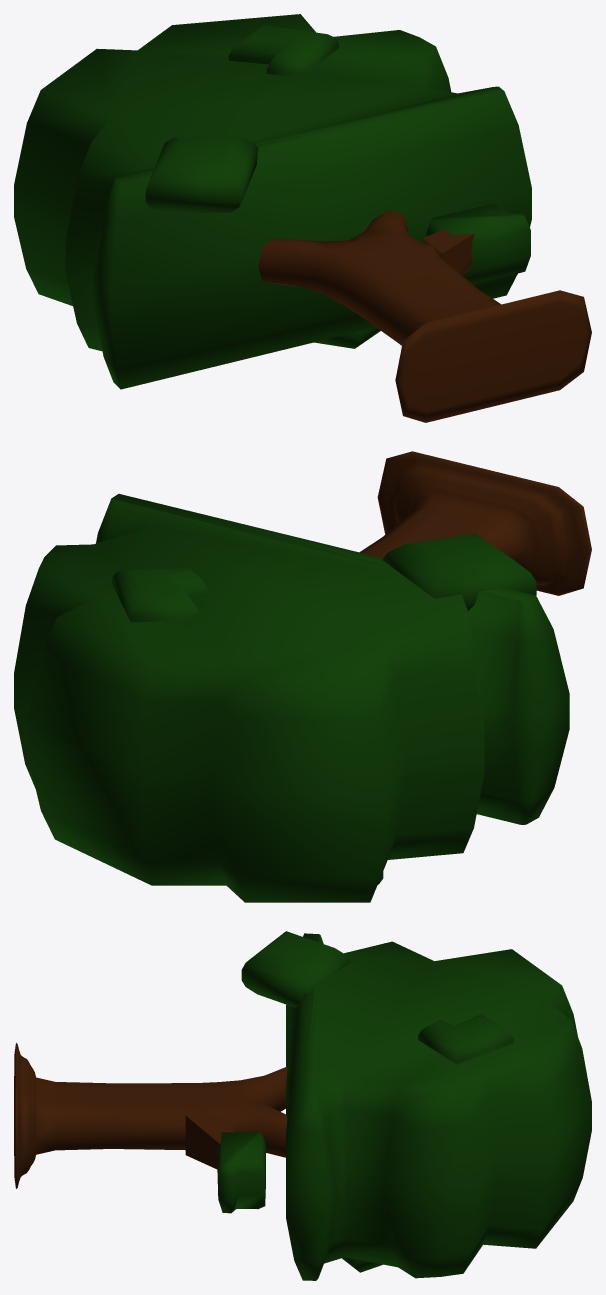
The model's file is Tree1.FBX.
3 renders of one model, top to bottom at view 1: azimuth 30°, elevation 25°; view 2: azimuth 150°, elevation 25°; view 3: azimuth 270°, elevation 25°, orthographic. The views are drawn at different scales.
Parts seen in each view (by area): view 1: Line003; view 2: Line003; view 3: Line003.
Boxes of the visible parts, x1=… form: Line003: x1=14, y1=14, x2=591, y2=422; Line003: x1=14, y1=451, x2=591, y2=902; Line003: x1=14, y1=931, x2=591, y2=1280.
Bounding box in the file's own units: 86.71 × 50.99 × 116.
